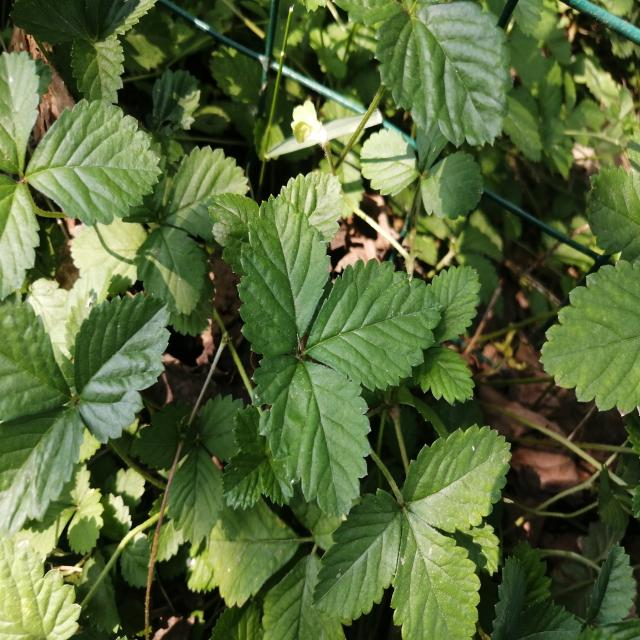Mock_strawberry: (215, 191, 427, 498)
